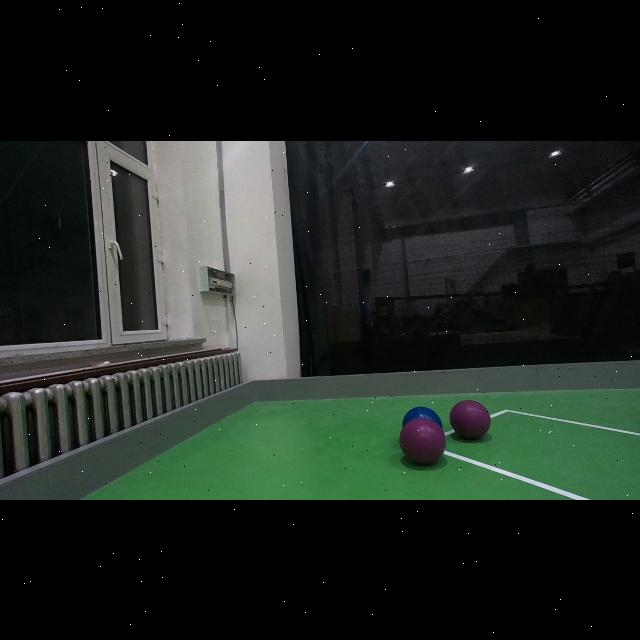B: (402, 406, 442, 428)
P: (399, 418, 446, 464), (450, 399, 490, 438)
